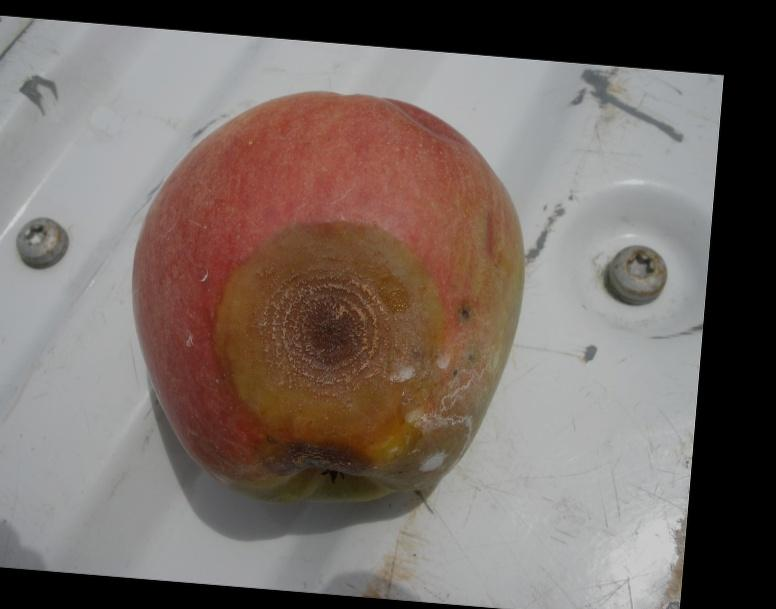rotten apple: (131, 89, 523, 513)
